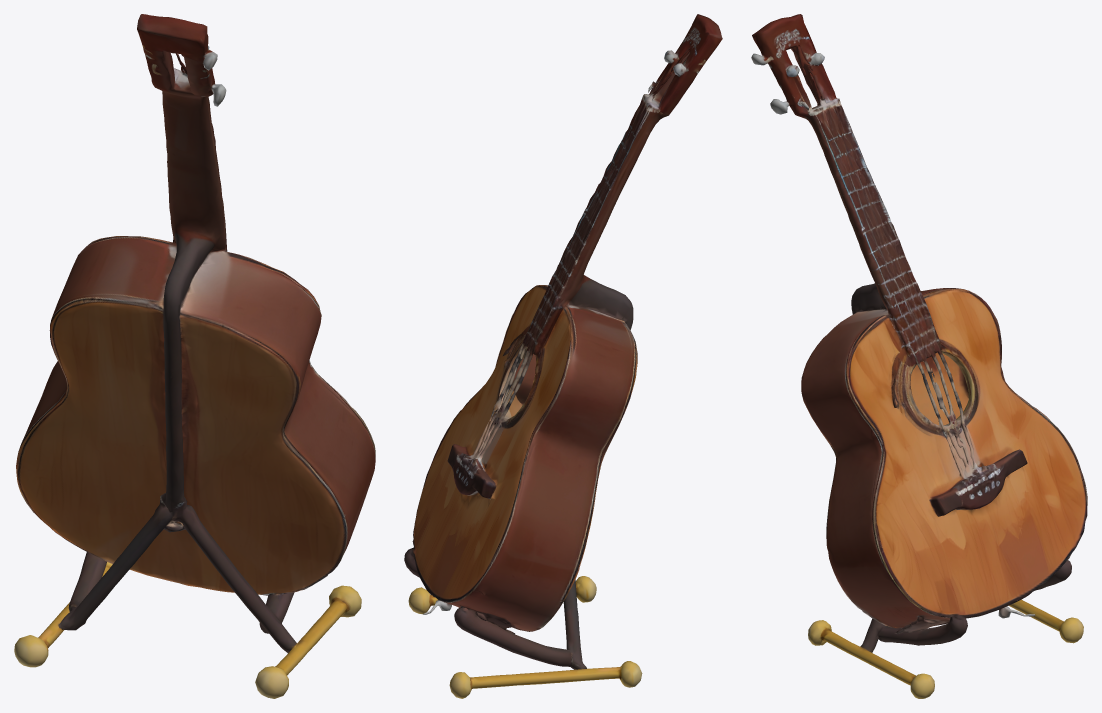
File: au_prop_guitar.glb
3 renders of one model, left to right at view 1: azimuth 30°, elevation 25°; view 2: azimuth 150°, elevation 25°; view 3: azimuth 270°, elevation 25°, orthographic. The views are drawn at different scales.
Visible parts, largest first — view 1: tripo_node_90fa17b6-b614-4b68-81fa-f05acb00cef6; view 2: tripo_node_90fa17b6-b614-4b68-81fa-f05acb00cef6; view 3: tripo_node_90fa17b6-b614-4b68-81fa-f05acb00cef6.
Part boxes in pixels (x1,y1,x2,y2): tripo_node_90fa17b6-b614-4b68-81fa-f05acb00cef6: (14, 14, 375, 698); tripo_node_90fa17b6-b614-4b68-81fa-f05acb00cef6: (404, 14, 722, 698); tripo_node_90fa17b6-b614-4b68-81fa-f05acb00cef6: (751, 14, 1087, 698).
Bounding box in the file's own units: 0.3818 × 0.85 × 0.4495.
1 material, 1 textured.
